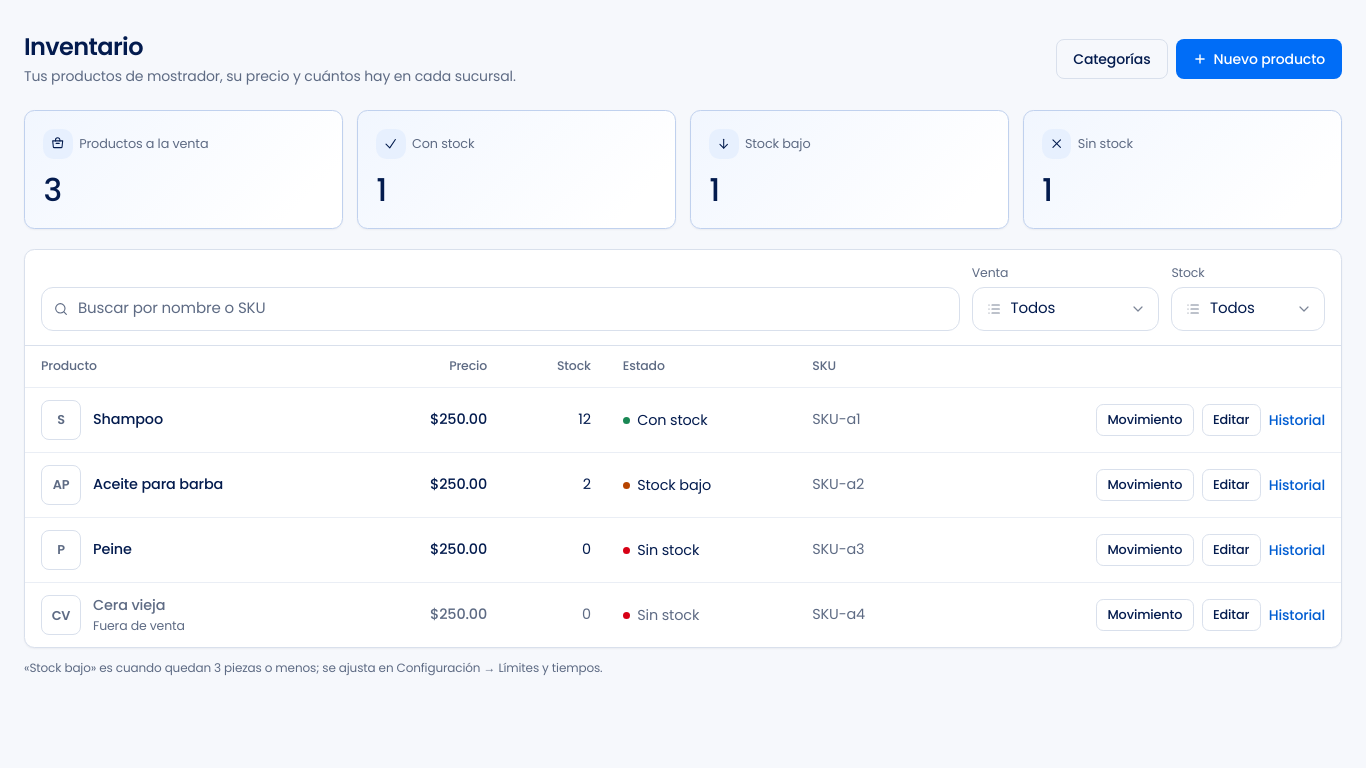
Test case: inventario › un nombre de categoría repetido se avisa dentro del diálogo
Click the button "Categorías": (1112,59) [1056,39,1168,79]
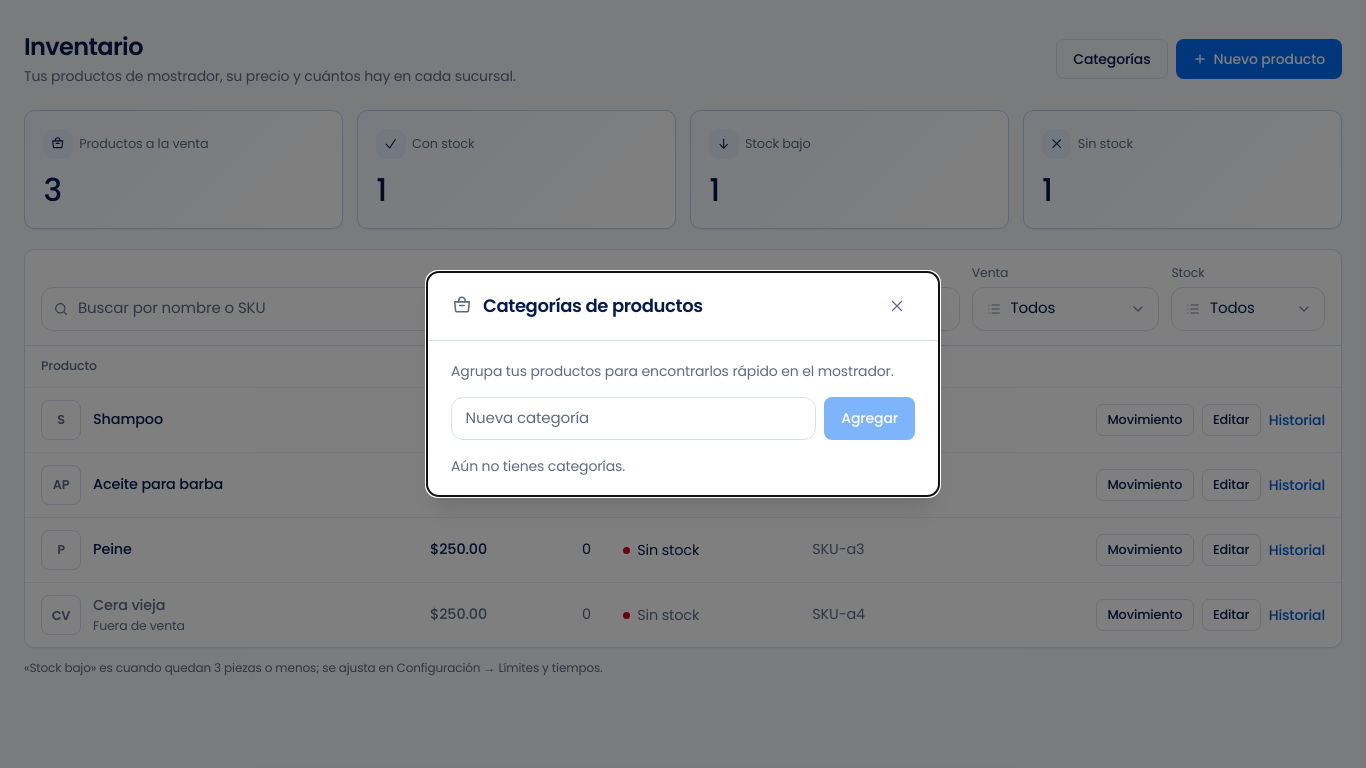
In the field with placeholder "Nueva categoría": (634,418) [451,397,816,440], type "Cuidado"
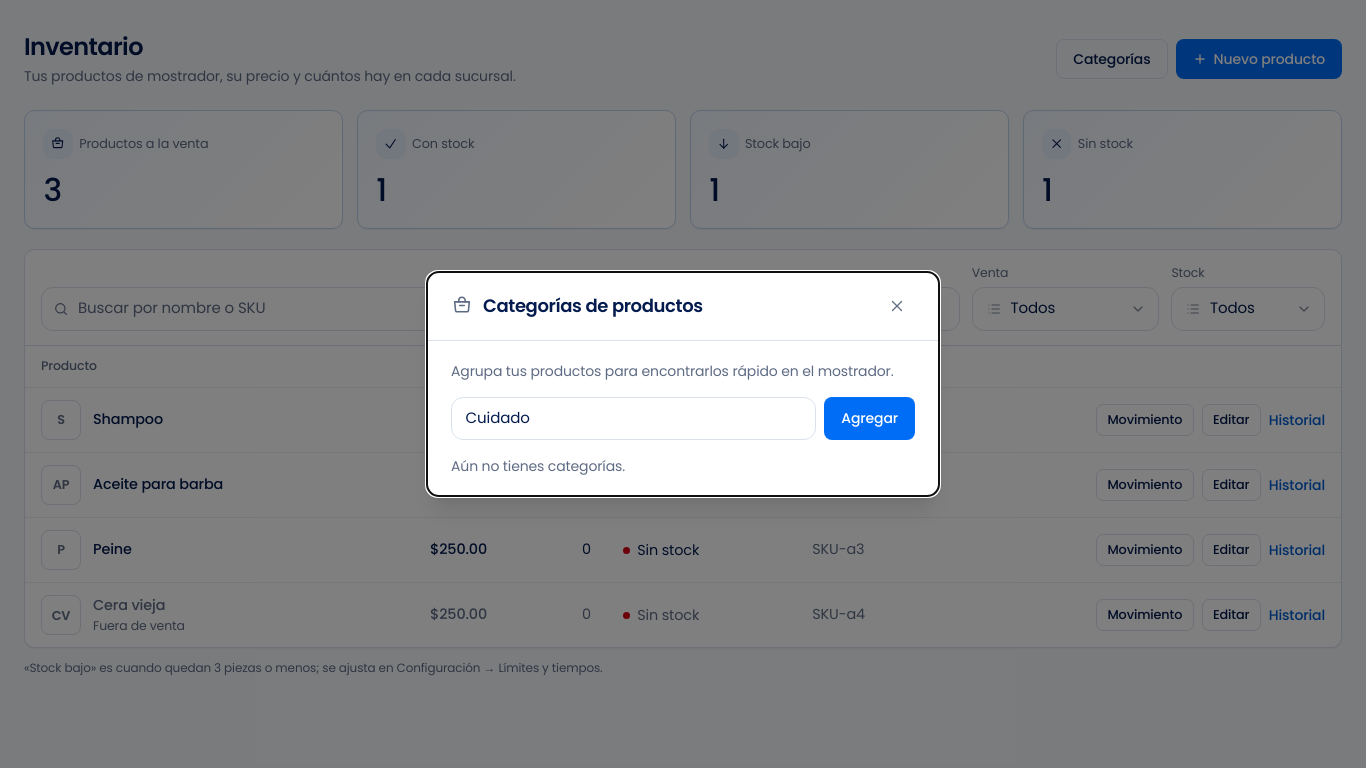
Submit the form, box [451,397,915,440]
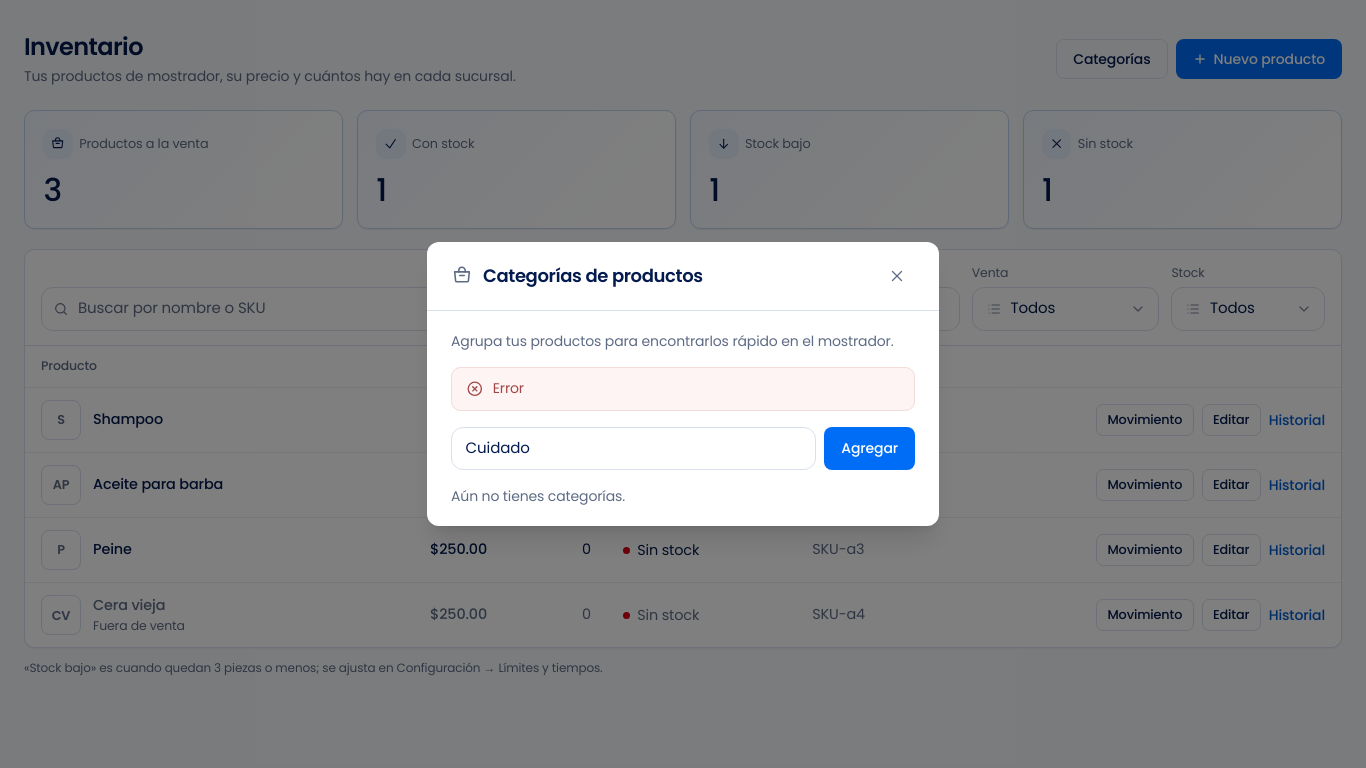
Expected: the message "Error" is shown, [451,367,915,410]
